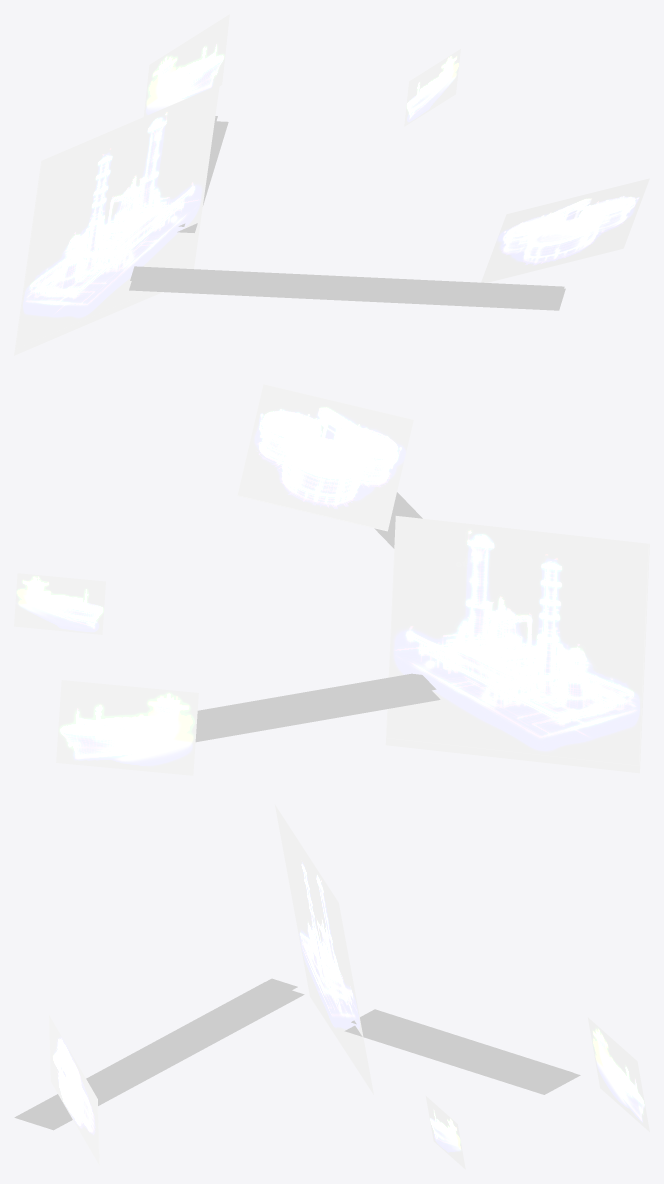
File: energy-chapter.glb
The picture shows the model from 3 angles, top to bottom: view 1: azimuth 30°, elevation 25°; view 2: azimuth 150°, elevation 25°; view 3: azimuth 270°, elevation 25°; orthographic projection. The views are drawn at different scales.
Parts seen in each view (by area): view 1: Hologram1, Line.001, Hologram0, Hologram2, Hologram3, Line.002; view 2: Hologram1, Hologram0, Hologram2, Line.002, Hologram3, Line.001; view 3: Hologram1, Line.001, Line.002, Hologram0, Hologram2, Hologram3.
Boxes of the visible parts, x1,y1,x2,y2 form: Hologram1: (14,84,219,355); Line.001: (129,266,565,310); Hologram0: (481,178,649,282); Hologram2: (143,14,229,116); Hologram3: (404,49,460,126); Line.002: (177,116,228,232); Hologram1: (385,516,649,773); Hologram0: (237,384,413,531); Hologram2: (56,680,198,775); Line.002: (195,673,440,742); Hologram3: (14,573,105,634); Line.001: (374,492,422,548); Hologram1: (275,805,373,1094); Line.001: (14,978,304,1130); Line.002: (344,1009,580,1094); Hologram0: (49,1015,99,1165); Hologram2: (588,1017,649,1131); Hologram3: (426,1096,465,1169).
Size of what is drawn, in the model's own units: 31.42 by 11.81 by 34.6.
5 materials, 4 textured.
